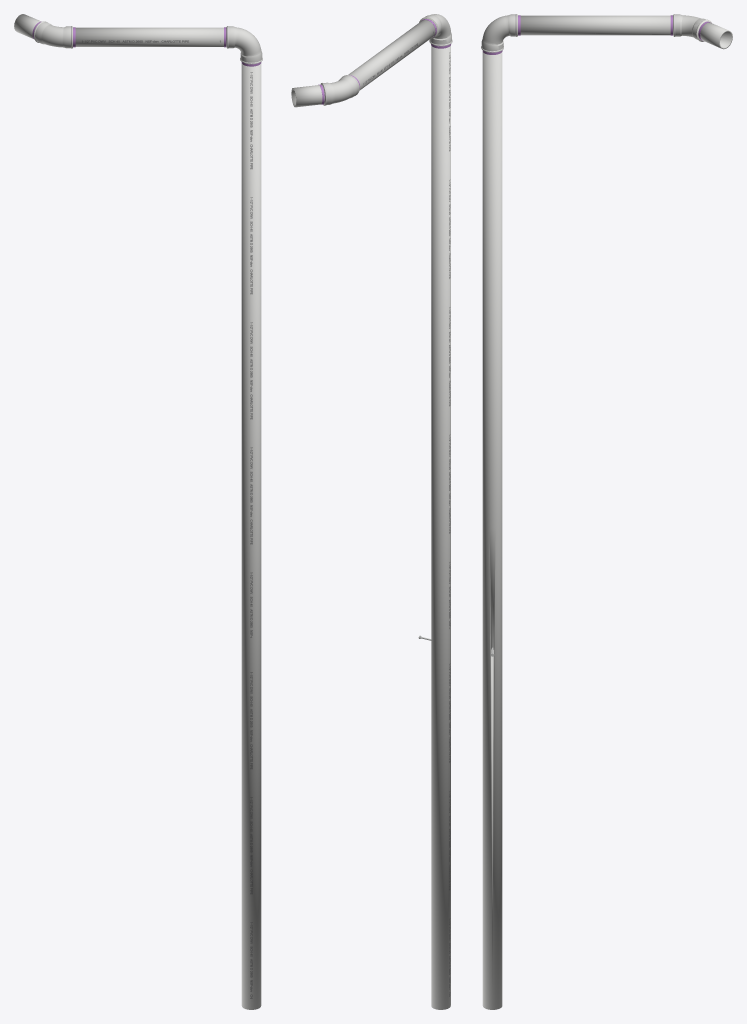
Rendered from pipes_dwv__fault-vent_hole_wall.glb.
3 views of the same model, side by side, from view 1: azimuth 90°, elevation 25°; view 2: azimuth 150°, elevation 25°; view 3: azimuth 270°, elevation 25° (orthographic).
Visible parts, largest first — view 1: vent_dwv_hallbath_vanity.902; view 2: vent_dwv_hallbath_vanity.902; view 3: vent_dwv_hallbath_vanity.902.
Part boxes in pixels (x1,y1,x2,y2): vent_dwv_hallbath_vanity.902: (14, 14, 262, 1009); vent_dwv_hallbath_vanity.902: (291, 14, 452, 1009); vent_dwv_hallbath_vanity.902: (481, 14, 732, 1009).
Bounding box in the file's own units: 0.1281 × 2.67 × 0.6155.
5 materials, 1 textured.
